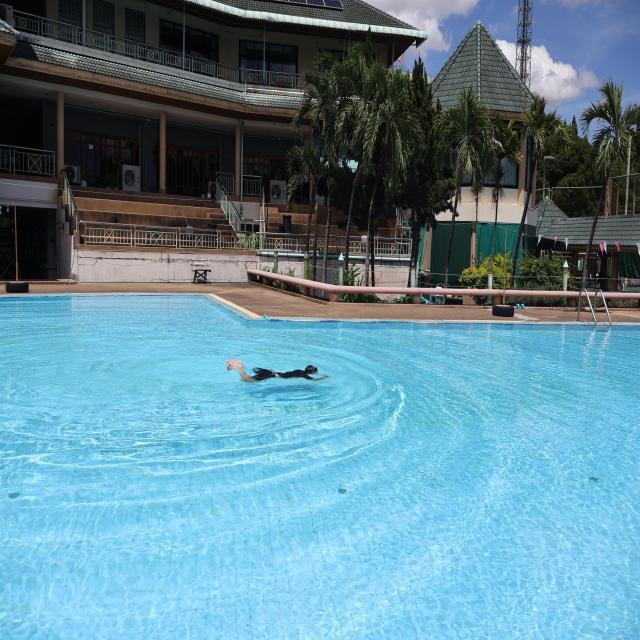Swimming: (226, 356, 330, 389)
